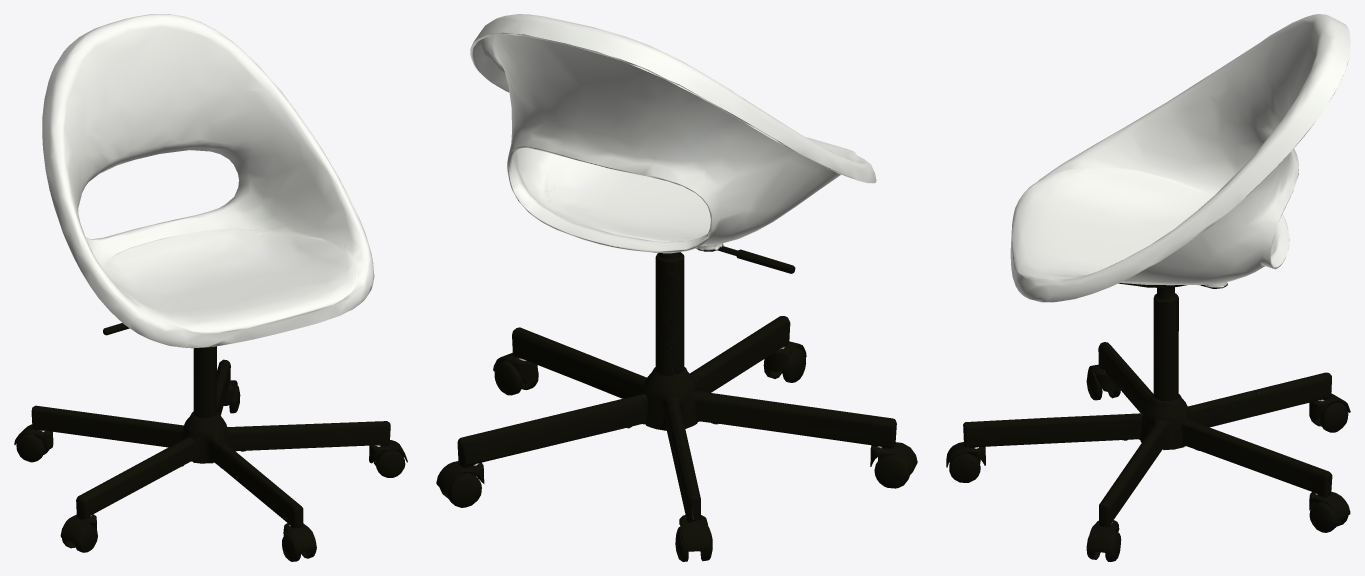
Rendered from loberget-malskar.glb.
3 renders of one model, left to right at view 1: azimuth 30°, elevation 25°; view 2: azimuth 150°, elevation 25°; view 3: azimuth 270°, elevation 25°, orthographic. The views are drawn at different scales.
Parts seen in each view (by area): view 1: ProcessedMeshNode; view 2: ProcessedMeshNode; view 3: ProcessedMeshNode.
Boxes of the visible parts, left/top/right/bottom form: ProcessedMeshNode: left=14, top=14, right=407, bottom=561; ProcessedMeshNode: left=436, top=14, right=917, bottom=561; ProcessedMeshNode: left=946, top=14, right=1350, bottom=561.
Bounding box in the file's own units: 0.6733 × 0.7781 × 0.6413.
Materials: 1 (1 with a texture image).
